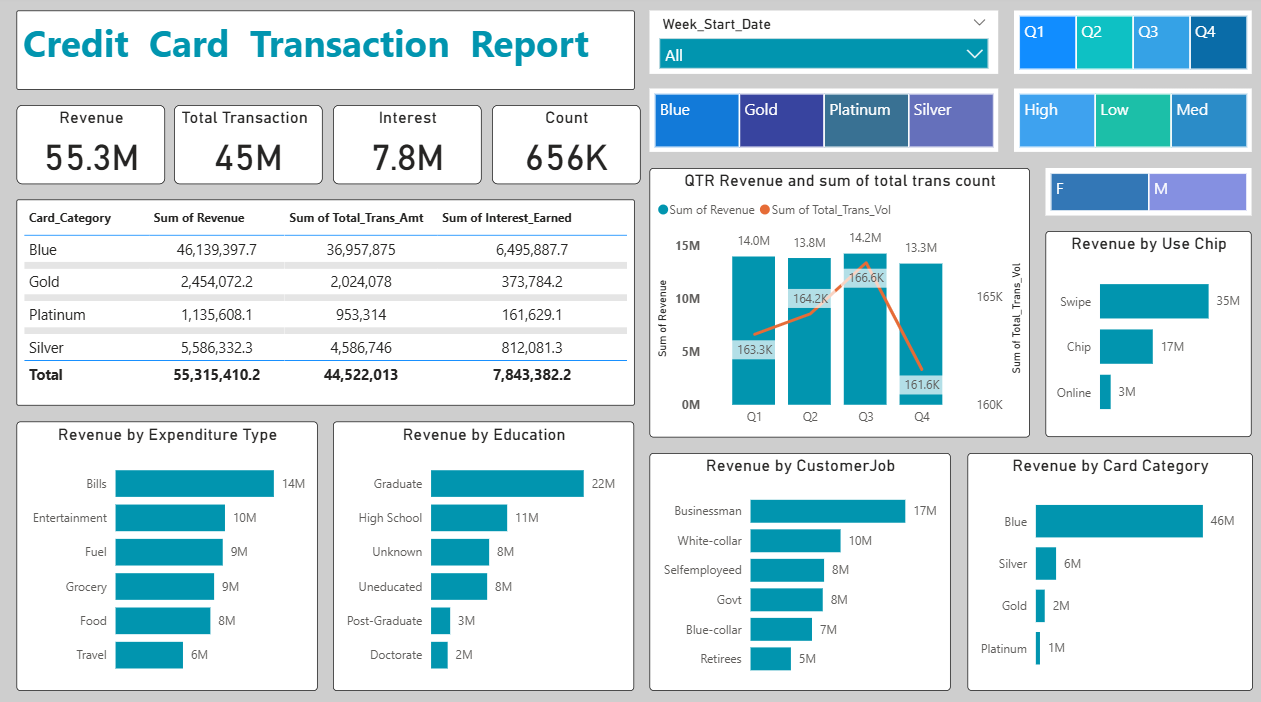

Layout of this report page (visuals, bound fields, positions):
{"tool":"powerbi","page":{"name":"CC Trans","canvas":[1280,720],"ordinal":0},"visuals":[{"type":"textbox","box":[16,16,624,80],"z":0},{"type":"lineStackedColumnComboChart","title":"QTR Revenue and sum of total trans count","fields":{"Category":["public cc_detail.Qtr"],"Y":["Sum(public cc_detail.Revenue)"],"Y2":["Sum(public cc_detail.Total_Trans_Vol)"]},"box":[656,176,384,272],"z":1000},{"type":"barChart","title":"Revenue by Expenditure Type","fields":{"Y":["Sum(public cc_detail.Revenue)"],"Category":["public cc_detail.Exp Type"]},"box":[16,432,304,272],"z":2000},{"type":"barChart","title":"Revenue by Education","fields":{"Y":["Sum(public cc_detail.Revenue)"],"Category":["public cust_detail.Education_Level"]},"box":[336,432,304,272],"z":3000},{"type":"barChart","title":"Revenue by CustomerJob ","fields":{"Y":["Sum(public cc_detail.Revenue)"],"Category":["public cust_detail.Customer_Job"]},"box":[656,464,304,240],"z":4000},{"type":"barChart","title":"Revenue by Card Category","fields":{"Y":["Sum(public cc_detail.Revenue)"],"Category":["public cc_detail.Card_Category"]},"box":[976,464,288,240],"z":5000},{"type":"barChart","title":"Revenue by Use Chip ","fields":{"Y":["Sum(public cc_detail.Revenue)"],"Category":["public cc_detail.Use Chip"]},"box":[1056,240,208,208],"z":6000},{"type":"tableEx","fields":{"Values":["public cc_detail.Card_Category","Sum(public cc_detail.Revenue)","Sum(public cc_detail.Total_Trans_Amt)","Sum(public cc_detail.Interest_Earned)"]},"box":[16,208,624,208],"z":7000},{"type":"card","title":"Revenue","fields":{"Values":["Sum(public cc_detail.Revenue)"]},"box":[16,112,150,80],"z":8000},{"type":"card","title":"Total Transaction","fields":{"Values":["Sum(public cc_detail.Total_Trans_Amt)"]},"box":[176,112,150,80],"z":9000},{"type":"card","title":"Interest","fields":{"Values":["Sum(public cc_detail.Interest_Earned)"]},"box":[336,112,150,80],"z":10000},{"type":"card","title":"Count","fields":{"Values":["Sum(public cc_detail.Total_Trans_Vol)"]},"box":[496,112,150,80],"z":11000},{"type":"slicer","fields":{"Values":["public cc_detail.Week_Start_Date"]},"box":[656,16,352,64],"z":12000},{"type":"treemap","fields":{"Group":["public cc_detail.Qtr"],"Values":["Min(public cc_detail.Credit_Limit)"]},"box":[1024,16,240,64],"z":13000},{"type":"treemap","fields":{"Values":["Min(public cc_detail.Credit_Limit)"],"Group":["public cust_detail.Gender"]},"box":[1056,176,208,48],"z":14000},{"type":"treemap","fields":{"Values":["Max(public cc_detail.Credit_Limit)"],"Group":["public cc_detail.Card_Category"]},"box":[656,96,352,64],"z":15000},{"type":"treemap","fields":{"Values":["Max(public cc_detail.Credit_Limit)"],"Group":["public cust_detail.Incomegroup"]},"box":[1024,96,240,64],"z":16000}]}

Visuals, with their boxes in screenshot pixels (x1, y1, x2, y2), scaled from the page's 1280x720 canvas onto the 1261x702 screenshot:
textbox: rect(16, 16, 630, 94)
"QTR Revenue and sum of total trans count" lineStackedColumnComboChart: rect(646, 172, 1025, 437)
"Revenue by Expenditure Type" barChart: rect(16, 421, 315, 686)
"Revenue by Education" barChart: rect(331, 421, 630, 686)
"Revenue by CustomerJob " barChart: rect(646, 452, 946, 686)
"Revenue by Card Category" barChart: rect(962, 452, 1245, 686)
"Revenue by Use Chip " barChart: rect(1040, 234, 1245, 437)
tableEx - public cc_detail.Card_Category x Sum(public cc_detail.Revenue): rect(16, 203, 630, 406)
"Revenue" card: rect(16, 109, 164, 187)
"Total Transaction" card: rect(173, 109, 321, 187)
"Interest" card: rect(331, 109, 479, 187)
"Count" card: rect(489, 109, 636, 187)
slicer - public cc_detail.Week_Start_Date: rect(646, 16, 993, 78)
treemap - public cc_detail.Qtr x Min(public cc_detail.Credit_Limit): rect(1009, 16, 1245, 78)
treemap - Min(public cc_detail.Credit_Limit) x public cust_detail.Gender: rect(1040, 172, 1245, 218)
treemap - Max(public cc_detail.Credit_Limit) x public cc_detail.Card_Category: rect(646, 94, 993, 156)
treemap - Max(public cc_detail.Credit_Limit) x public cust_detail.Incomegroup: rect(1009, 94, 1245, 156)
